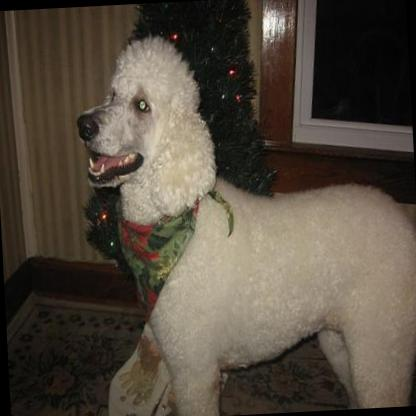standard_poodle: (69, 21, 416, 416)
